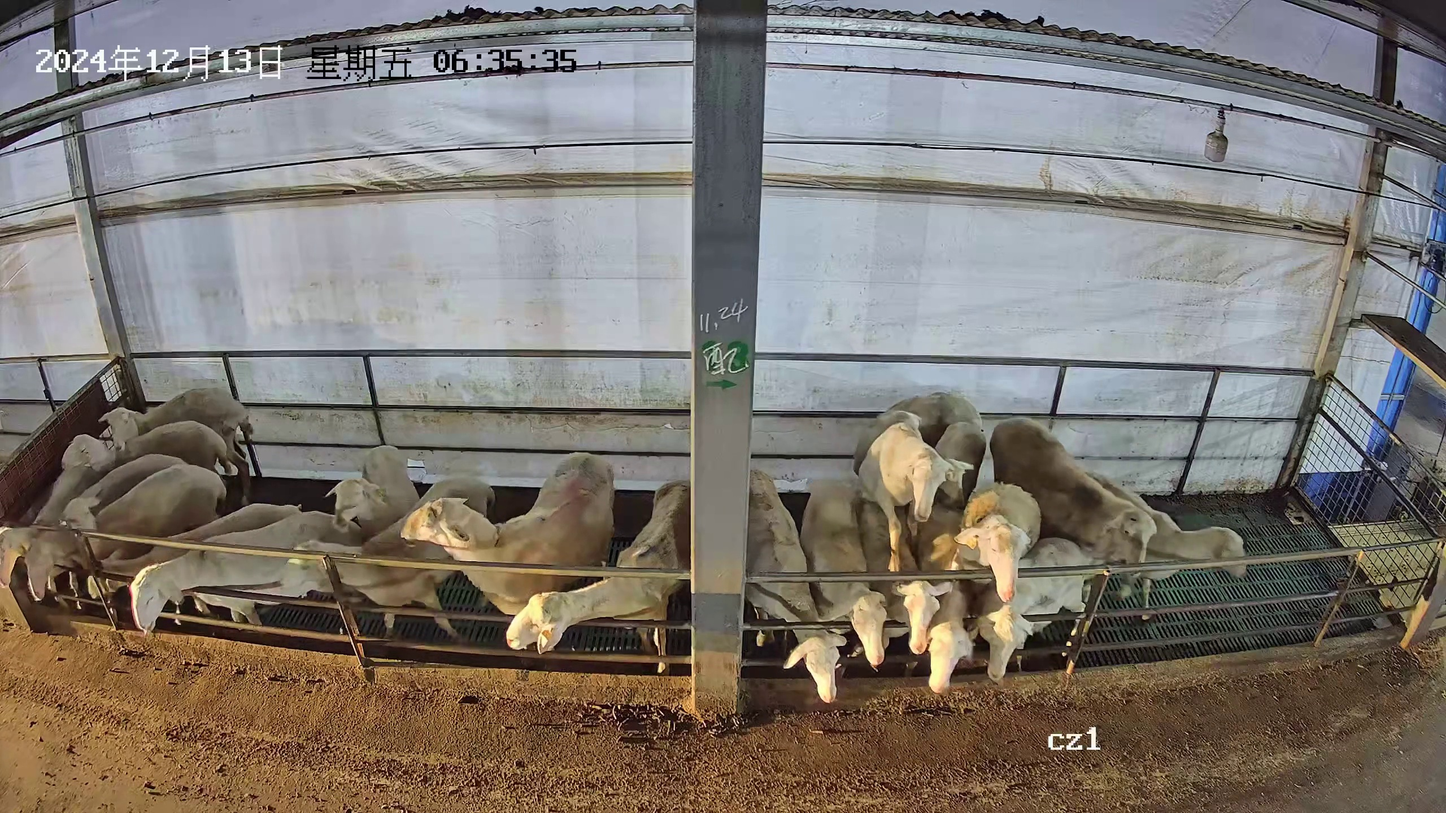Nmounting: (851, 408, 956, 673)
